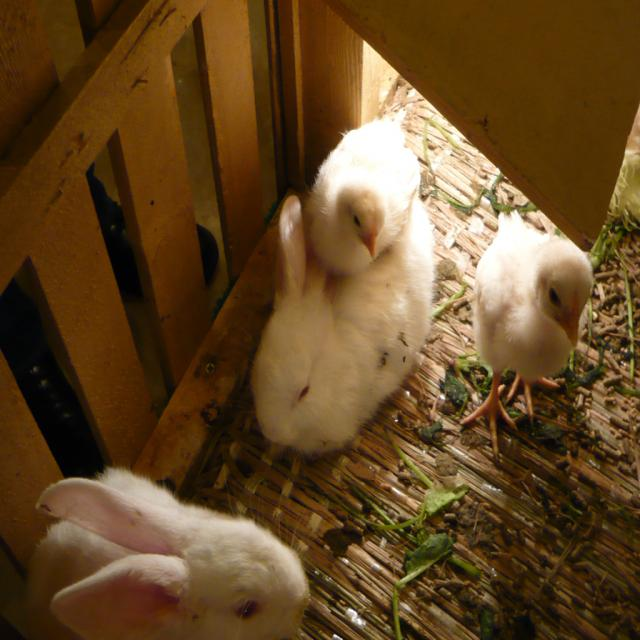Chicken: (452, 209, 599, 460)
